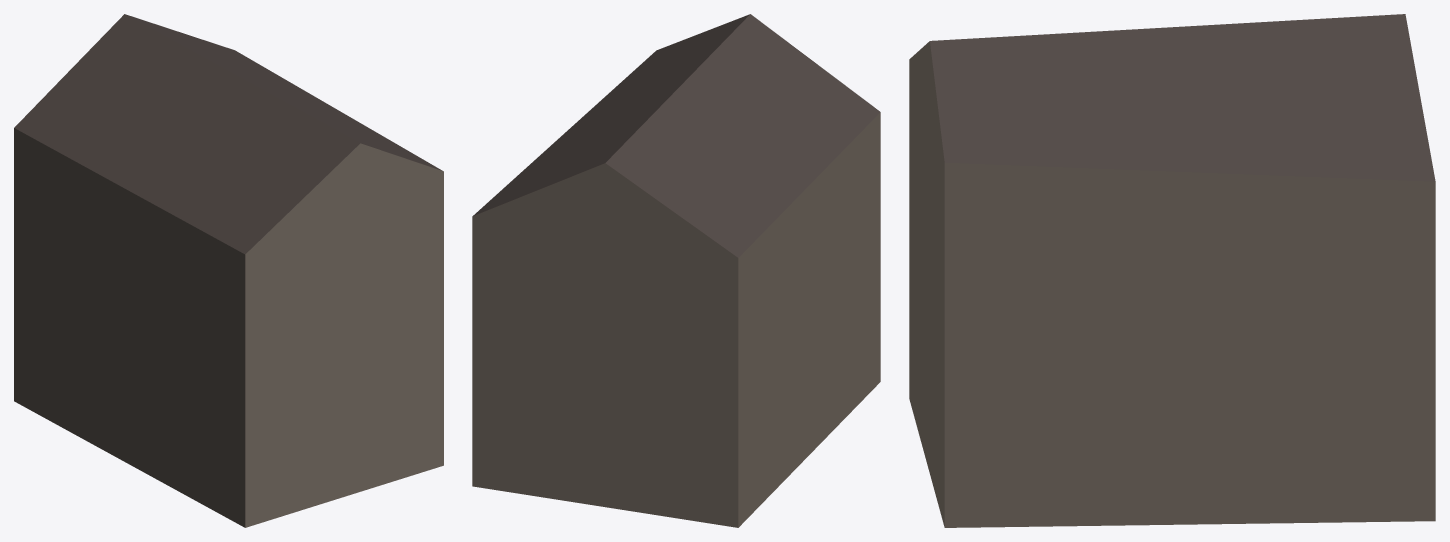
3 views of the same model, side by side, from view 1: azimuth 30°, elevation 25°; view 2: azimuth 150°, elevation 25°; view 3: azimuth 270°, elevation 25° (orthographic). The views are drawn at different scales.
Parts seen in each view (by area): view 1: HP-w1516161971; view 2: HP-w1516161971; view 3: HP-w1516161971.
Part boxes in pixels (x1=…): HP-w1516161971: x1=14, y1=14, x2=443, y2=527; HP-w1516161971: x1=472, y1=14, x2=880, y2=527; HP-w1516161971: x1=909, y1=14, x2=1435, y2=527.
Size of the model in its own units: 5.89 by 7.65 by 8.43.
